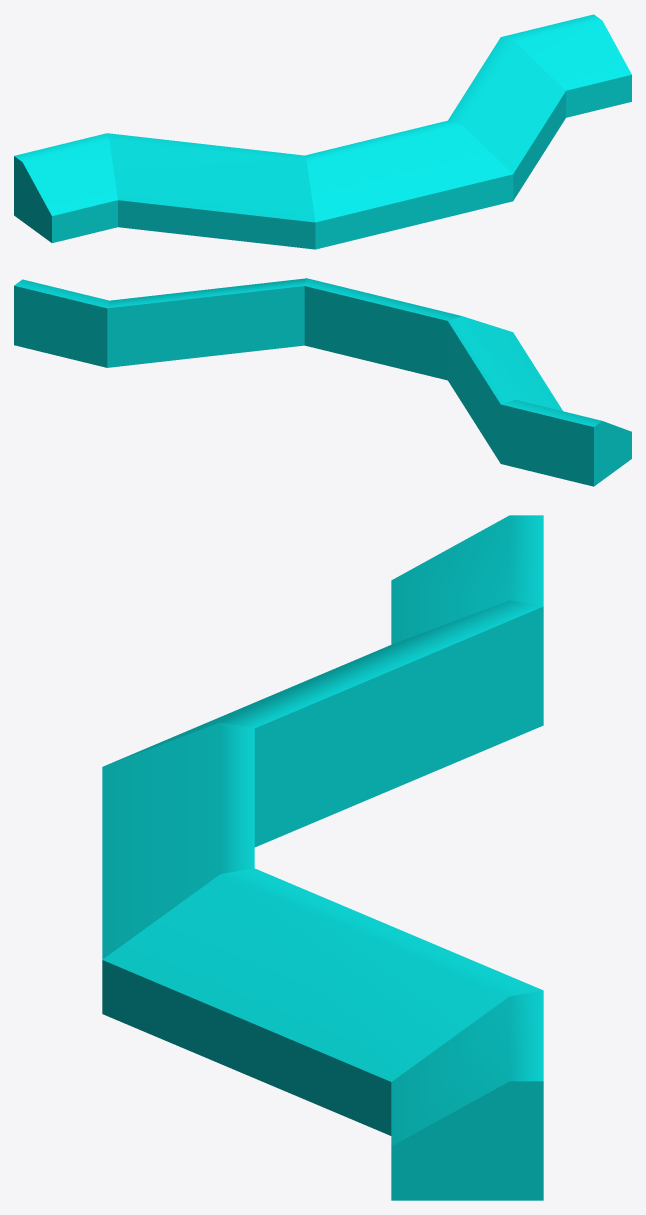
The model's file is SM_Bld_Stairs_Stage_01_Collision.fbx.
3 renders of one model, top to bottom at view 1: azimuth 30°, elevation 25°; view 2: azimuth 150°, elevation 25°; view 3: azimuth 270°, elevation 25°, orthographic. The views are drawn at different scales.
Parts seen in each view (by area): view 1: SM_Bld_Stairs_Stage_01_Collision; view 2: SM_Bld_Stairs_Stage_01_Collision; view 3: SM_Bld_Stairs_Stage_01_Collision.
Part boxes in pixels (x1,y1,x2,y2): SM_Bld_Stairs_Stage_01_Collision: [14, 14, 631, 249]; SM_Bld_Stairs_Stage_01_Collision: [14, 278, 631, 486]; SM_Bld_Stairs_Stage_01_Collision: [102, 515, 543, 1200].
Size of the model in its own units: 1100 by 108 by 362.
